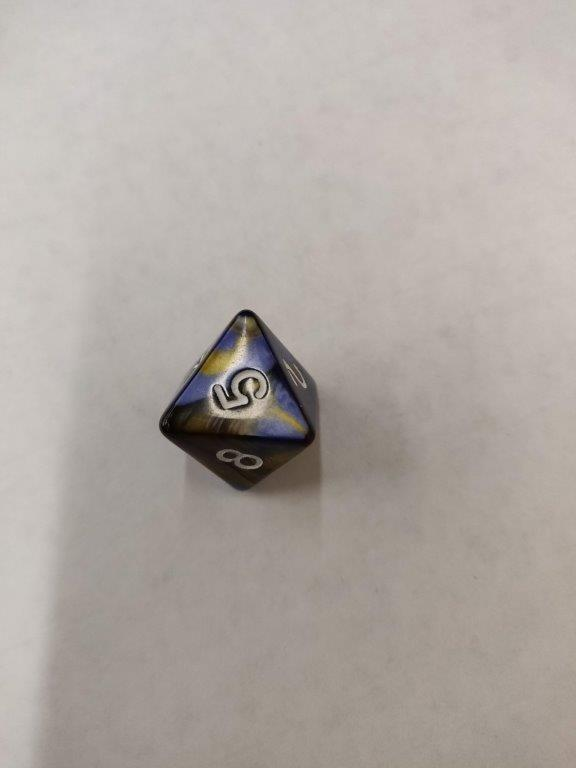d8-5: (157, 306, 318, 495)
